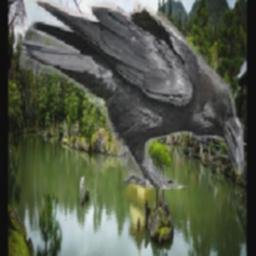Crow: (20, 0, 245, 190)
